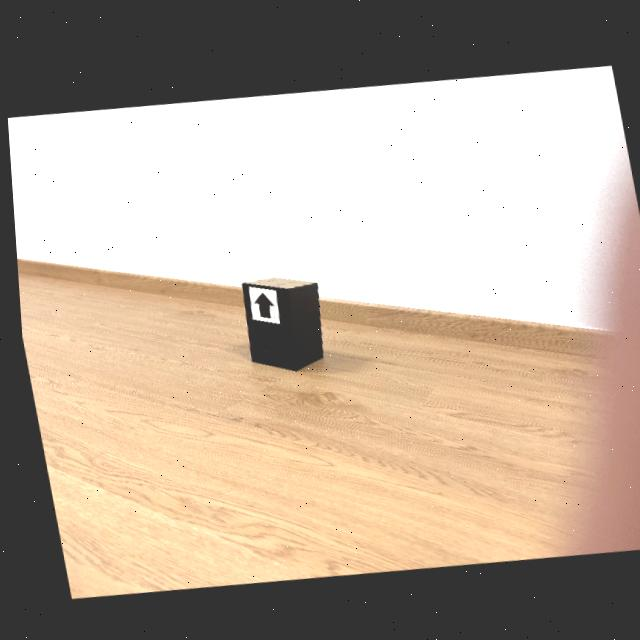UP: (249, 290, 270, 316)
